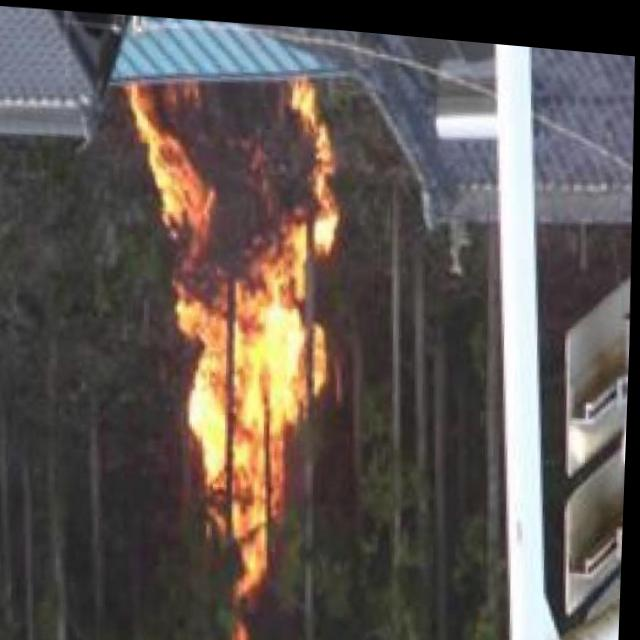Fire: (121, 66, 346, 581)
